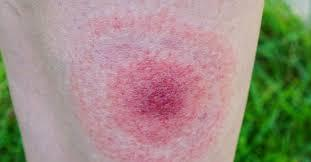Tick: (87, 21, 225, 157)
